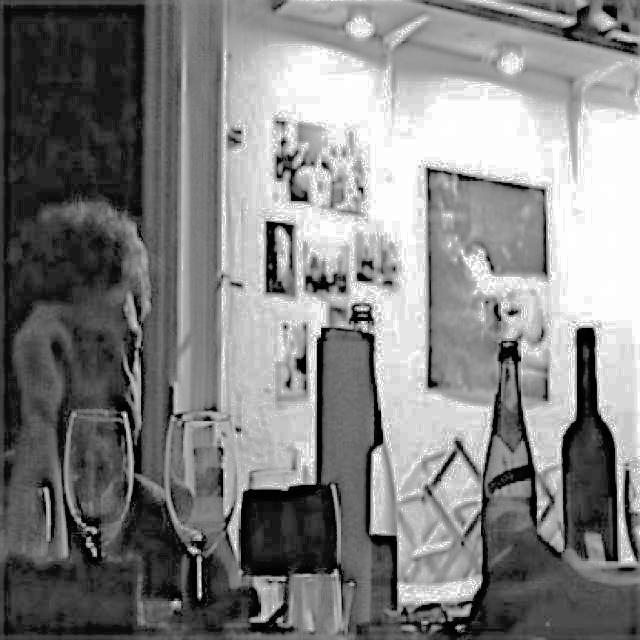Person: (0, 191, 197, 597)
